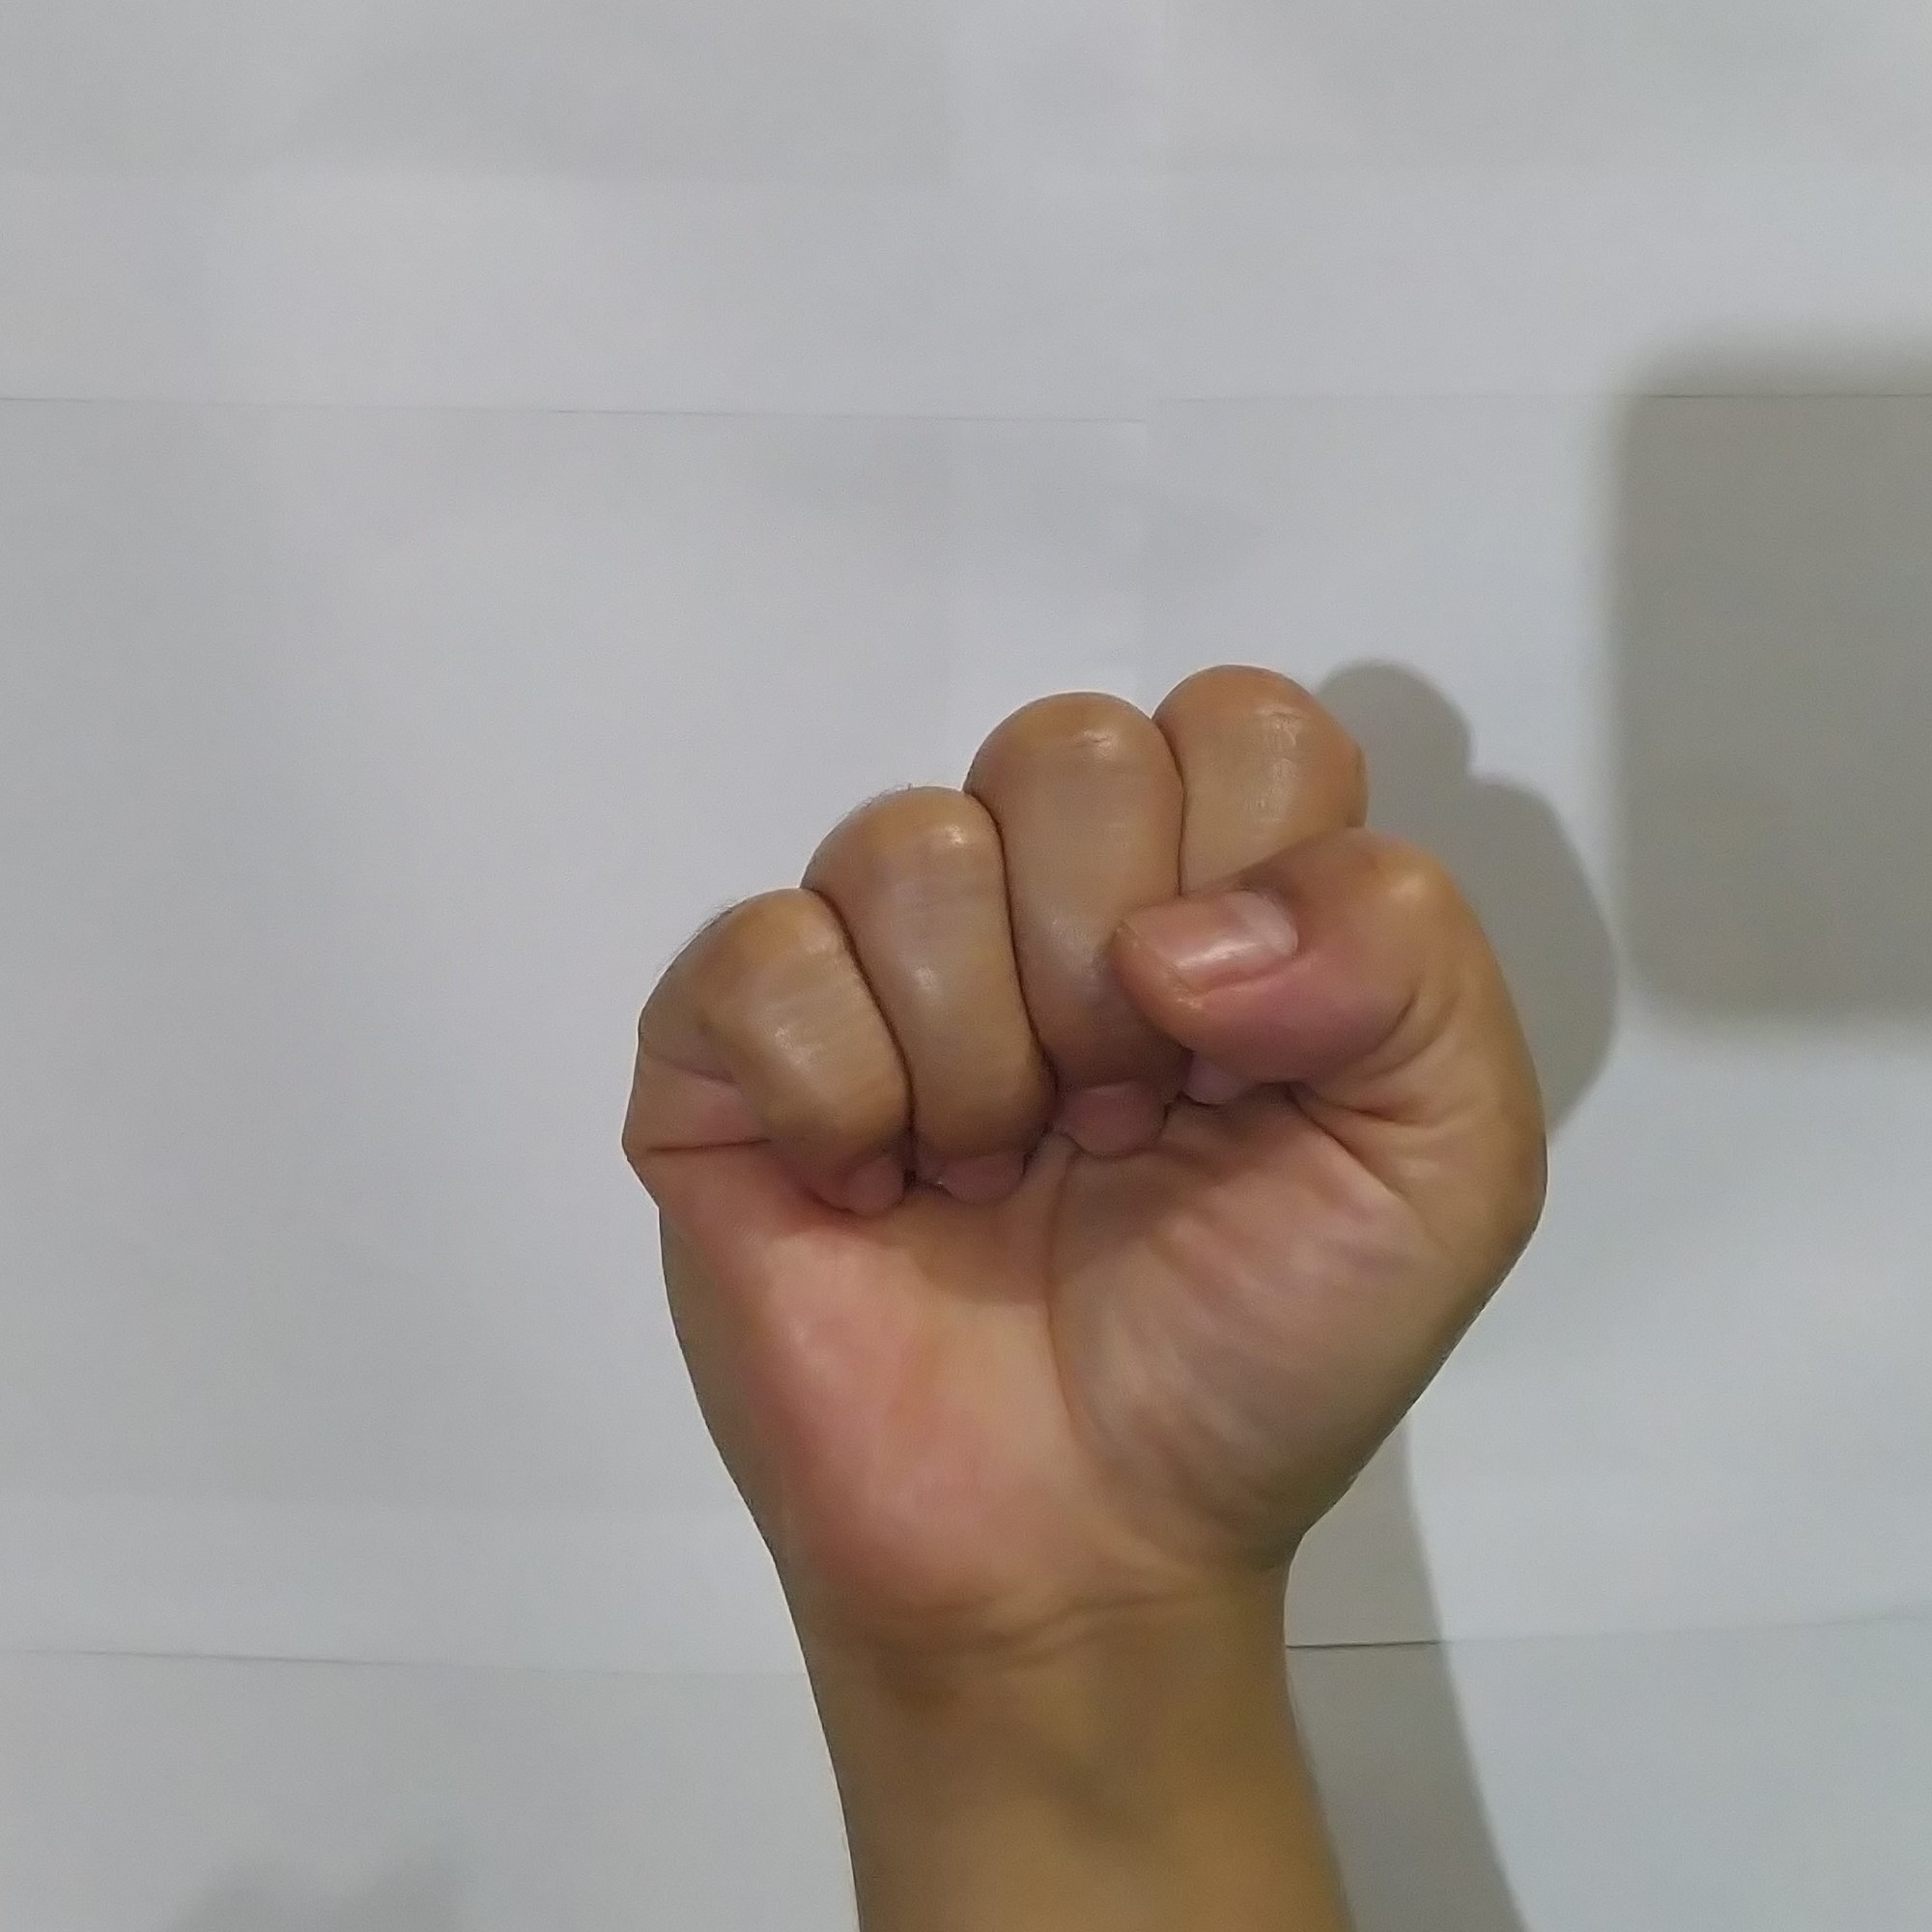S: (580, 642, 1582, 1652)
